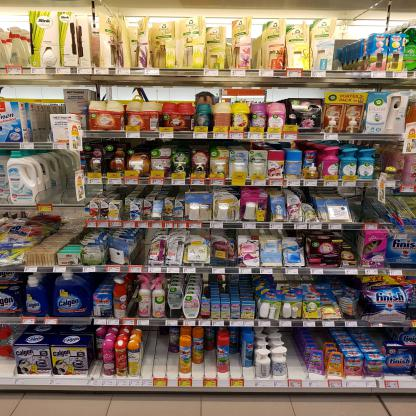Void: (144, 343, 173, 377), (348, 190, 374, 226), (286, 338, 302, 375)
